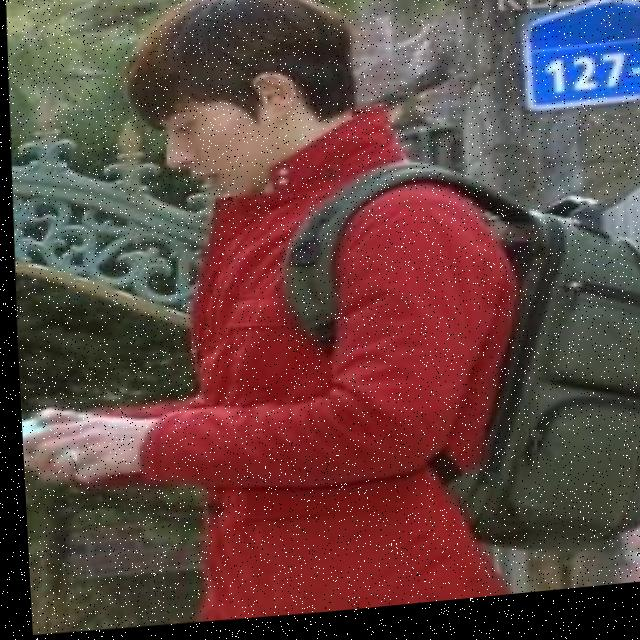backpack: (350, 165, 640, 570)
